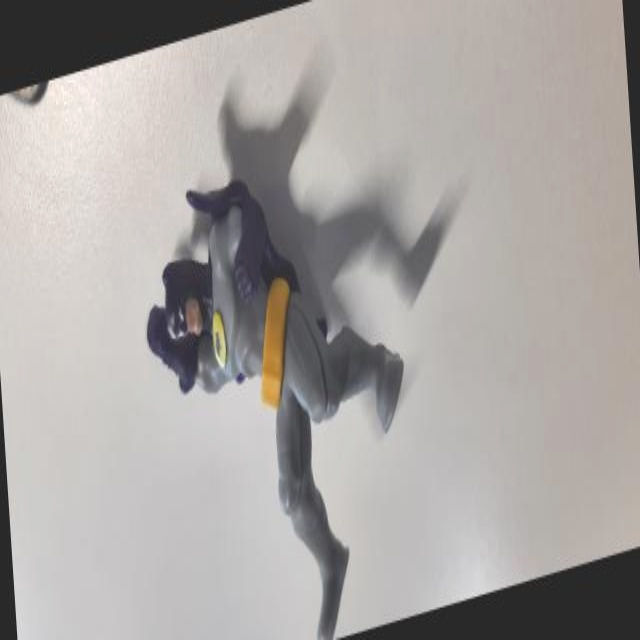Batman: (130, 80, 418, 640)
